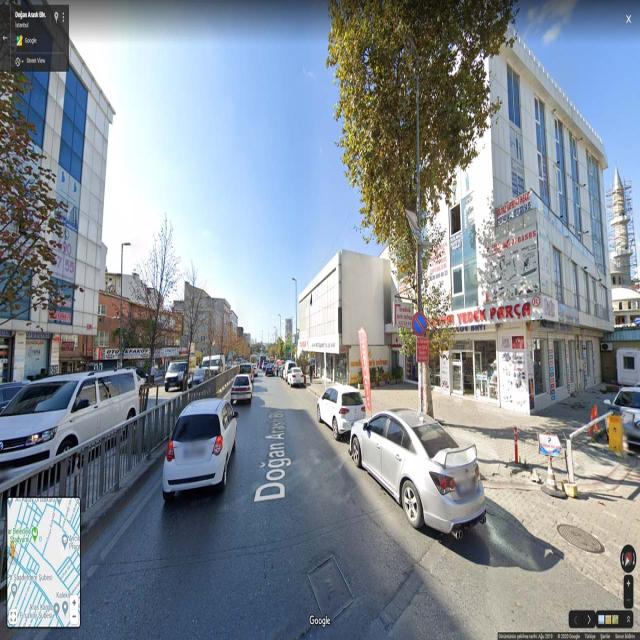parkyasak: (410, 309, 428, 336)
